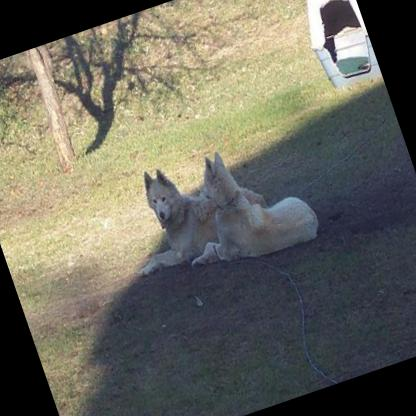Eskimo_dog: (99, 127, 286, 300)
